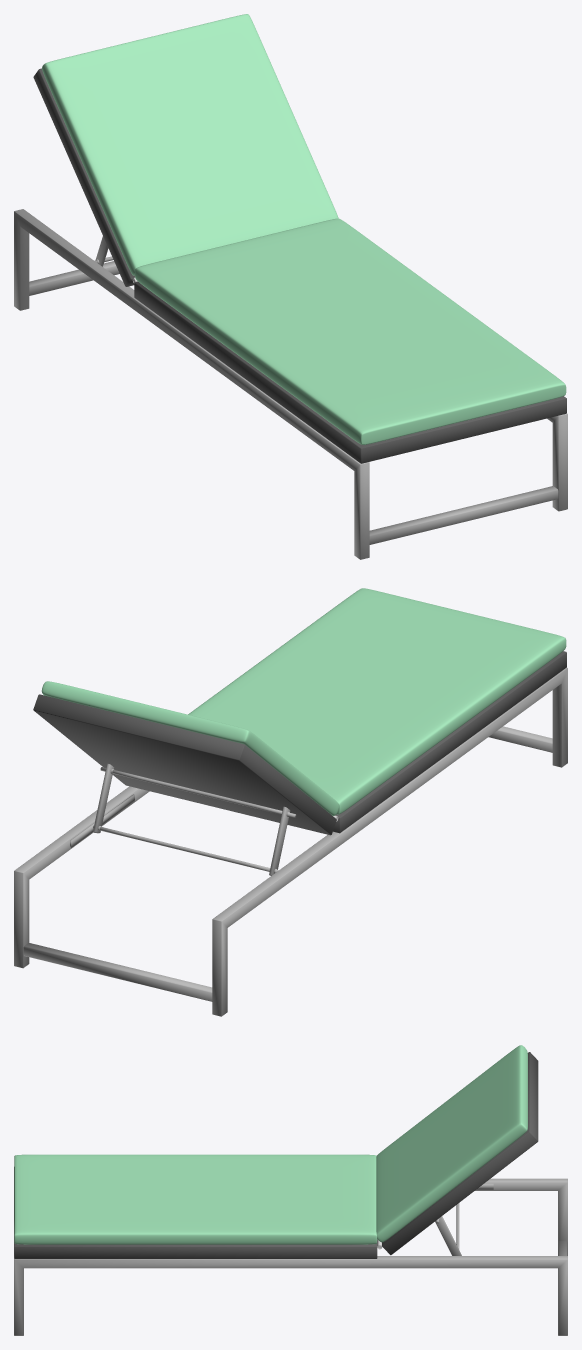
File: pool_bench.gltf
3 renders of one model, top to bottom at view 1: azimuth 30°, elevation 25°; view 2: azimuth 150°, elevation 25°; view 3: azimuth 270°, elevation 25°, orthographic. The views are drawn at different scales.
Visible parts, largest first — view 1: Box499048, Box499047, Box499044, Box499046, Box499045; view 2: Box499048, Box499044, Box499045, Box499047, Box499046; view 3: Box499048, Box499047, Box499044, Box499046, Box499045.
Part boxes in pixels (bbox=[...]): Box499048: bbox=[135, 218, 566, 444]; Box499047: bbox=[42, 14, 338, 275]; Box499044: bbox=[14, 209, 567, 559]; Box499046: bbox=[134, 281, 566, 463]; Box499045: bbox=[33, 68, 134, 286]; Box499048: bbox=[188, 588, 566, 814]; Box499044: bbox=[14, 667, 567, 1016]; Box499045: bbox=[33, 694, 336, 835]; Box499047: bbox=[41, 681, 338, 815]; Box499046: bbox=[333, 651, 566, 833]; Box499048: bbox=[14, 1154, 377, 1244]; Box499047: bbox=[376, 1045, 527, 1242]; Box499044: bbox=[14, 1178, 567, 1335]; Box499046: bbox=[14, 1167, 377, 1258]; Box499045: bbox=[382, 1052, 538, 1255].
Size of the model in its own units: 0.3275 by 0.3986 by 0.9452.
